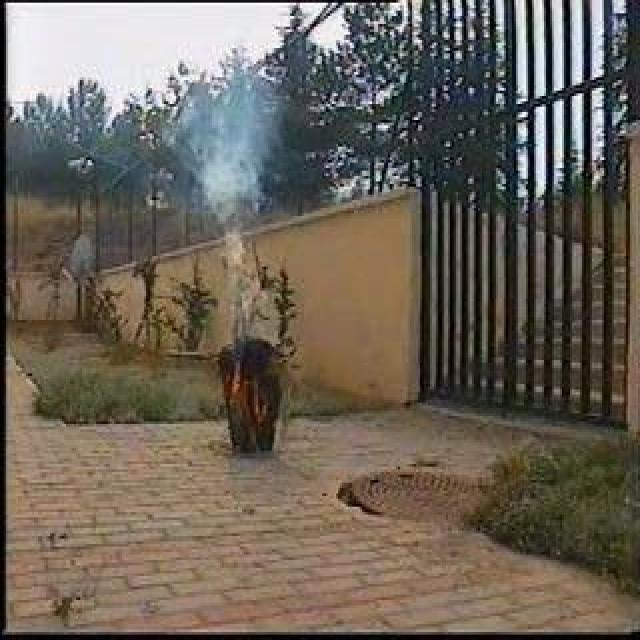fire: (227, 353, 269, 423)
smoke: (190, 74, 280, 225)
